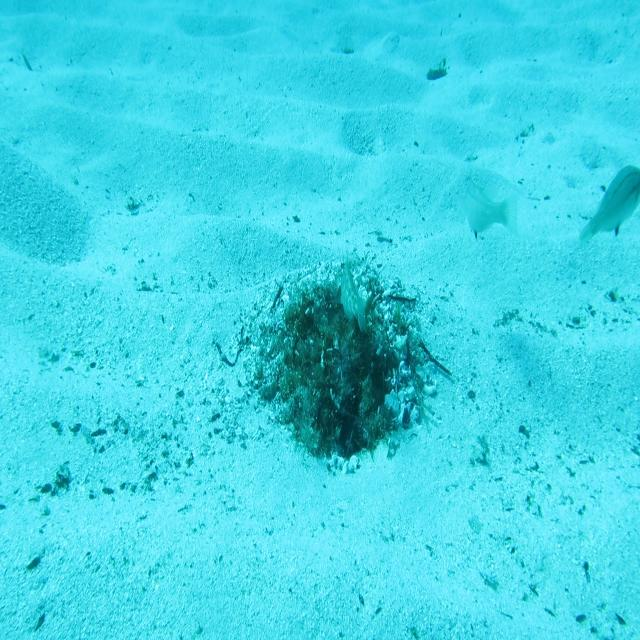NIP_CORE: (334, 249, 371, 334)
core_nest: (312, 305, 359, 353)
female: (577, 163, 640, 251), (460, 177, 522, 246)
nest: (233, 252, 449, 484)
vegetation: (423, 64, 450, 82)
